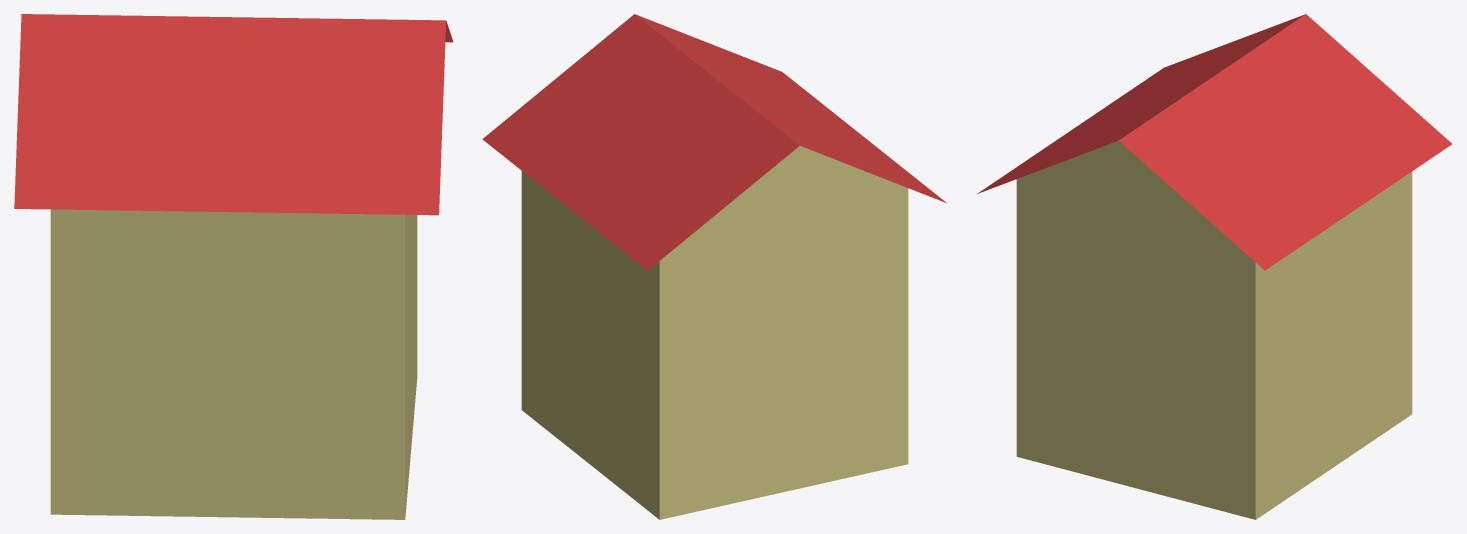
3 renders of one model, left to right at view 1: azimuth 30°, elevation 25°; view 2: azimuth 150°, elevation 25°; view 3: azimuth 270°, elevation 25°, orthographic. The views are drawn at different scales.
Visible parts, largest first — view 1: group_5, group_3, group_4; view 2: group_5, group_3, group_4; view 3: group_5, group_3, group_4.
Part boxes in pixels (x1,y1,x2,y2): group_5: [50, 209, 417, 519]; group_3: [14, 14, 453, 215]; group_4: [14, 14, 446, 215]; group_5: [521, 146, 908, 519]; group_3: [486, 14, 907, 270]; group_4: [482, 14, 946, 270]; group_5: [1016, 140, 1412, 519]; group_3: [977, 14, 1413, 270]; group_4: [978, 14, 1452, 270].
Bounding box in the file's own units: 16.46 × 16.32 × 13.52.
